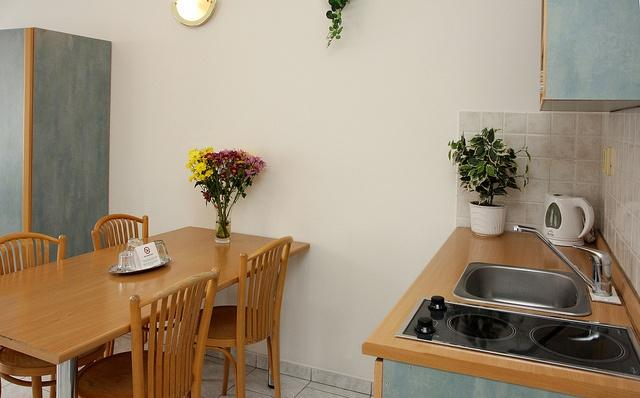Kursi: (76, 266, 219, 397), (200, 234, 293, 397)
Meja: (0, 224, 310, 369)
